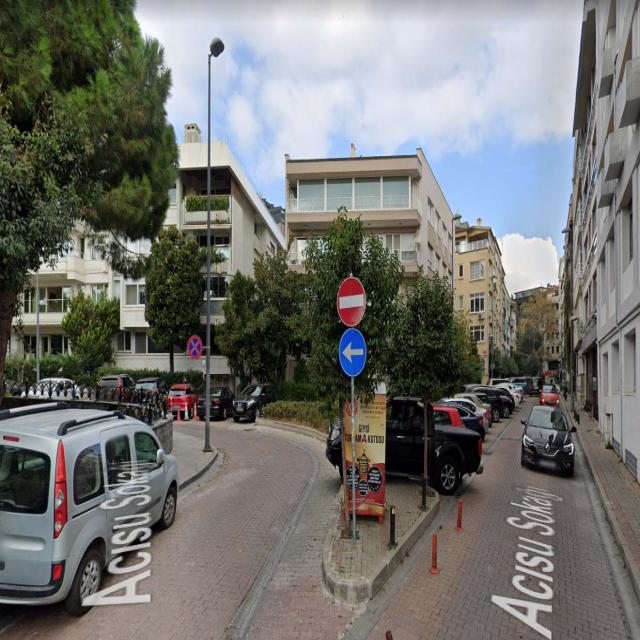girisyok: (336, 278, 365, 326)
sol: (339, 328, 366, 376)
